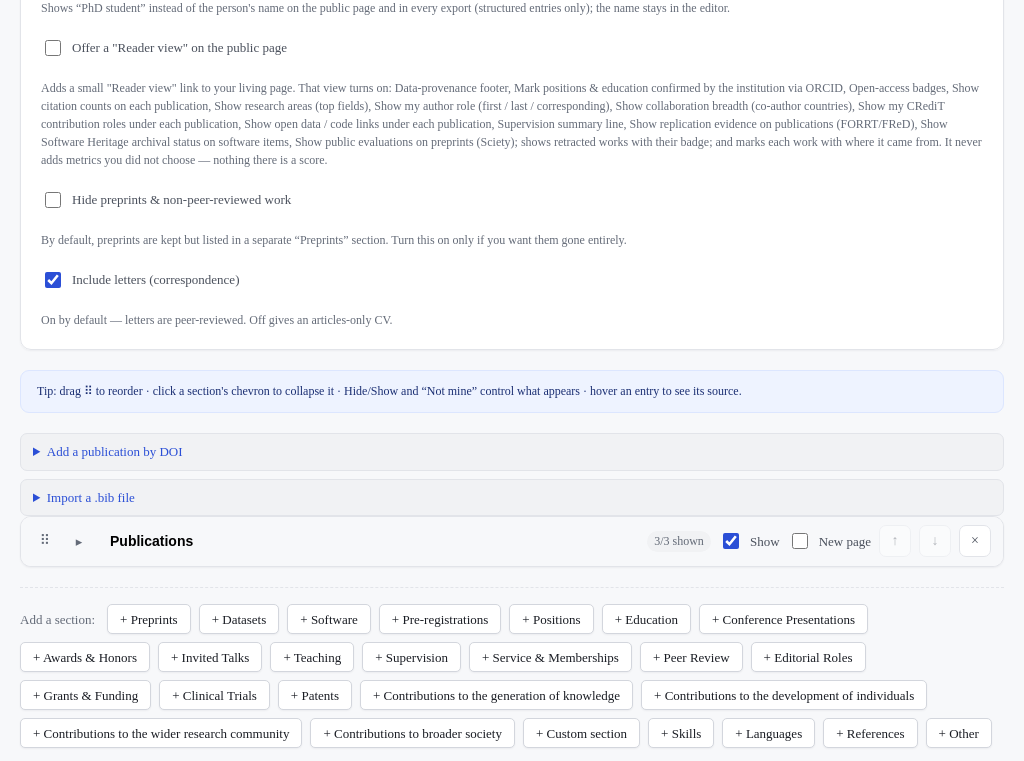
Test: CvEditor (component) › mirrors the publication sort in the editor list and locks manual reorder
This screenshot has width=1024, height=761.
(page scrolled)
Step 1. Click the button with class "section-toggle" → point(79, 541), box x1=65 y1=527 x2=93 y2=555
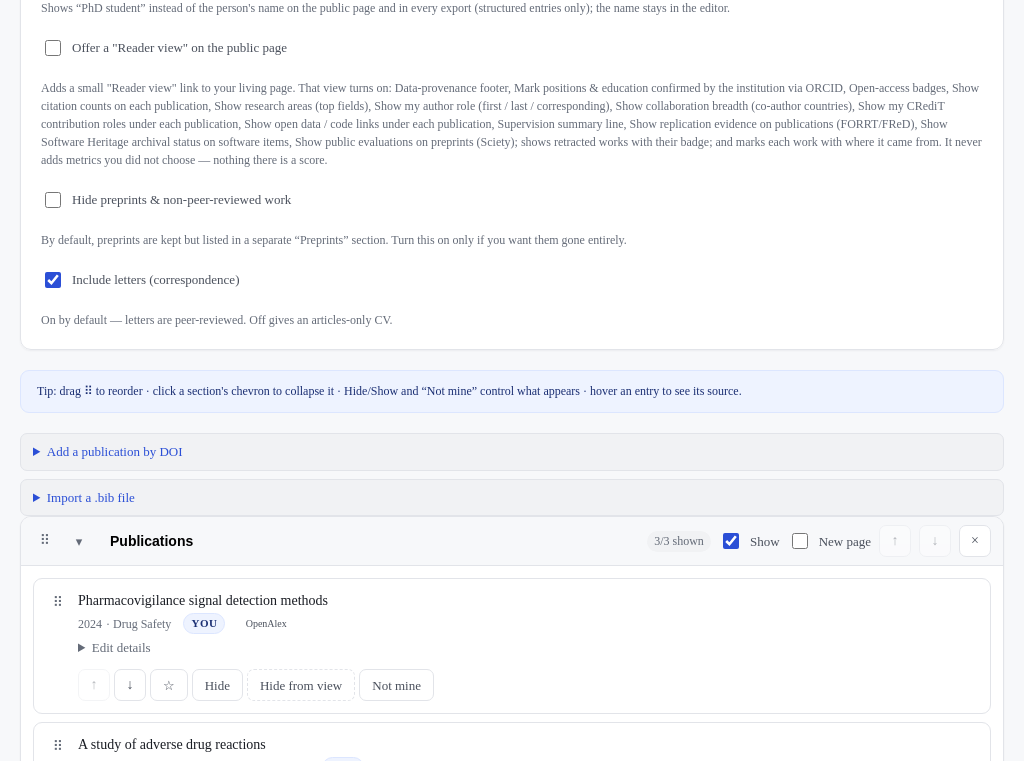
Check: the button named "Move up" is shown, box x1=78 y1=669 x2=110 y2=701
